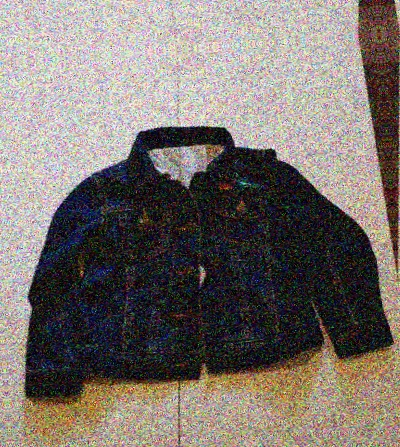Blazer: (0, 93, 390, 428), (0, 0, 358, 6)
